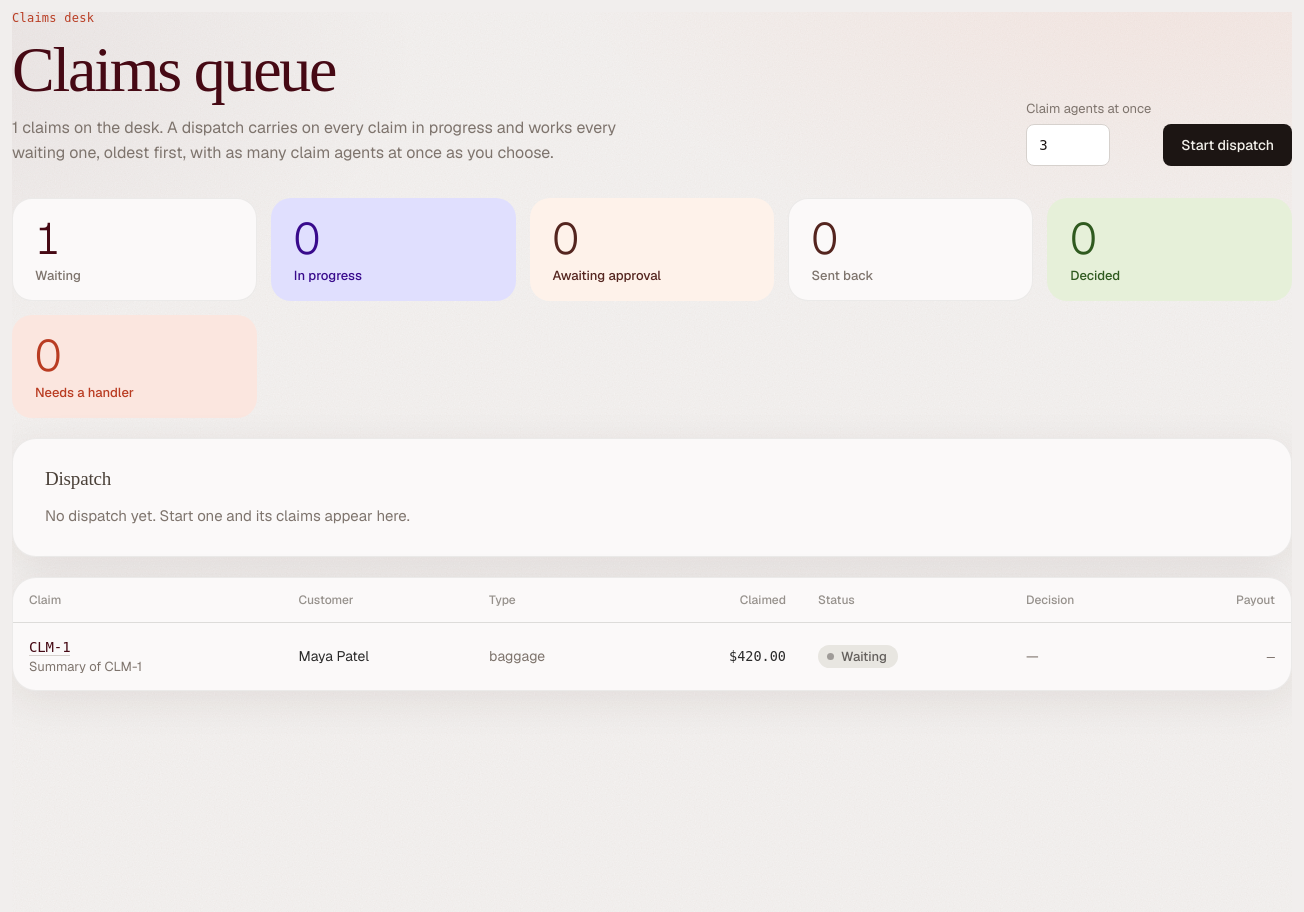
Test: Queue › says so when a dispatch or evaluation is already running
The width and height of the screenshot is (1304, 912).
What coordinates should you click on to do the following:
click the button "Start dispatch"
I would click on:
 (1228, 145)
Its box is [1163, 124, 1292, 166].
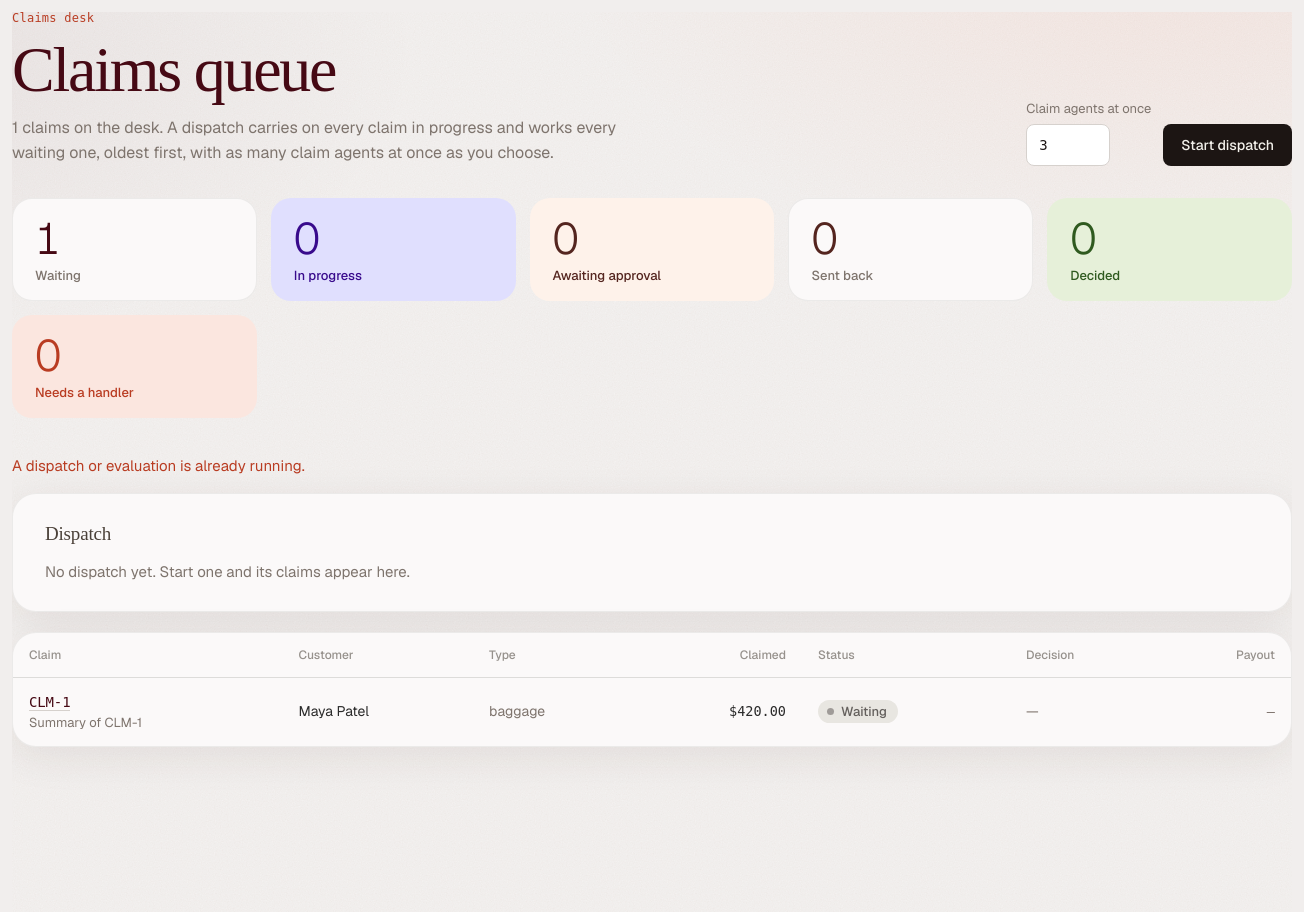
Expected: the text "A dispatch or evaluation is already running." is shown, [12, 454, 305, 477]
